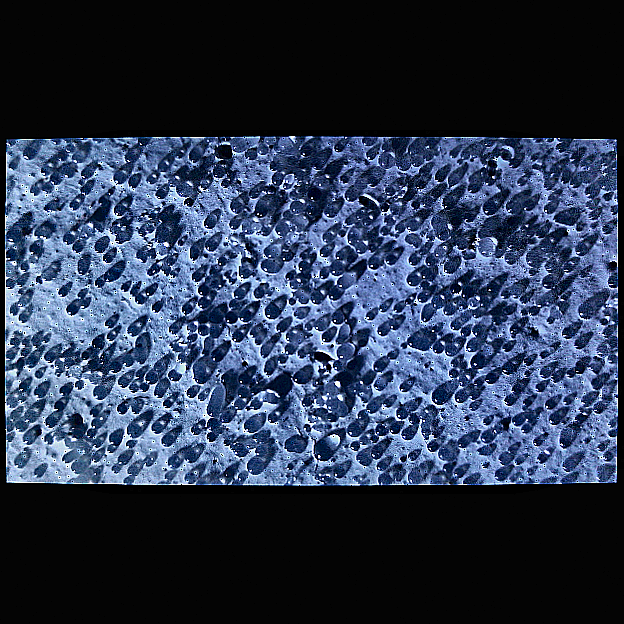GrassBeadSeg: (46, 174, 611, 453), (128, 153, 608, 478), (79, 186, 586, 462), (80, 162, 522, 463), (32, 189, 479, 477), (44, 211, 599, 437), (129, 137, 542, 415), (70, 154, 417, 481), (11, 179, 483, 416), (23, 158, 393, 451), (140, 137, 542, 396), (222, 150, 604, 414), (12, 219, 417, 468), (31, 262, 511, 464), (43, 233, 494, 444), (33, 189, 381, 459), (106, 138, 409, 441), (63, 233, 588, 406), (77, 142, 392, 427), (169, 227, 607, 430), (53, 215, 601, 377), (111, 205, 516, 424), (15, 208, 496, 392), (61, 239, 468, 456), (184, 190, 494, 461), (21, 166, 294, 470), (7, 201, 612, 337), (123, 152, 485, 379), (132, 289, 574, 473), (59, 167, 337, 456), (123, 153, 395, 448), (84, 252, 453, 465), (38, 167, 336, 422), (43, 256, 437, 445), (252, 216, 534, 475), (166, 178, 502, 392), (146, 201, 419, 459), (52, 143, 327, 393), (111, 172, 483, 356), (20, 204, 482, 347), (104, 324, 533, 473), (7, 240, 537, 360), (115, 213, 474, 388), (179, 304, 574, 463), (20, 150, 261, 410), (124, 148, 311, 477), (67, 201, 342, 422), (237, 205, 496, 433), (309, 158, 607, 356), (298, 145, 520, 410), (121, 288, 418, 484), (23, 148, 516, 264), (8, 220, 292, 421), (316, 270, 612, 462), (226, 149, 465, 383), (296, 161, 551, 379), (13, 244, 304, 431), (117, 265, 385, 467), (88, 149, 257, 463), (138, 229, 449, 392), (124, 326, 573, 438), (69, 252, 293, 474), (43, 303, 443, 426), (182, 198, 386, 435), (10, 177, 348, 315), (207, 196, 554, 327), (107, 362, 506, 475), (163, 296, 610, 395), (155, 163, 498, 292), (205, 322, 474, 484), (192, 200, 476, 352), (28, 184, 263, 367), (15, 316, 544, 393), (137, 246, 447, 377), (100, 254, 512, 352), (27, 244, 344, 370), (232, 228, 446, 410), (132, 182, 328, 378), (67, 205, 307, 358), (15, 217, 341, 323), (145, 207, 338, 375), (142, 284, 461, 385), (64, 305, 401, 400), (316, 223, 451, 460), (60, 235, 455, 315), (388, 204, 519, 438), (16, 299, 233, 434), (52, 240, 218, 411), (118, 273, 444, 360), (245, 347, 458, 475), (343, 278, 555, 405), (115, 183, 211, 462), (232, 340, 426, 476), (14, 158, 219, 286), (262, 262, 457, 392), (306, 189, 515, 310), (107, 254, 244, 434), (203, 355, 486, 442), (286, 182, 379, 444), (36, 400, 345, 478), (140, 223, 287, 383), (328, 233, 593, 319), (299, 371, 505, 481), (114, 309, 307, 415), (166, 265, 343, 379), (160, 399, 468, 463), (48, 137, 133, 366), (237, 314, 449, 404), (311, 217, 475, 332), (118, 324, 244, 465), (158, 309, 282, 447), (135, 136, 306, 234), (95, 310, 307, 388), (184, 348, 515, 397), (97, 245, 256, 345), (125, 274, 419, 328), (223, 313, 378, 413), (110, 397, 311, 474), (146, 285, 352, 360), (208, 342, 510, 392), (57, 312, 234, 394), (196, 204, 304, 336), (282, 331, 479, 400), (195, 344, 296, 475), (135, 270, 277, 363), (329, 335, 456, 437), (60, 389, 196, 483), (186, 150, 402, 208), (177, 371, 307, 466), (134, 190, 300, 263), (398, 335, 474, 484), (6, 337, 105, 441), (328, 312, 388, 472), (133, 423, 530, 447), (7, 339, 162, 398), (207, 269, 287, 377), (64, 393, 202, 453), (527, 262, 615, 356), (23, 371, 122, 453), (344, 222, 426, 319), (58, 226, 97, 428), (359, 136, 420, 265), (507, 407, 608, 482), (415, 166, 531, 231), (148, 303, 305, 349), (378, 324, 517, 375), (290, 145, 389, 215), (279, 203, 388, 262), (361, 137, 453, 203), (471, 153, 557, 221), (57, 249, 175, 298), (12, 414, 105, 475), (6, 137, 83, 210), (327, 262, 445, 309), (231, 424, 324, 480), (180, 150, 289, 195), (352, 238, 428, 302), (282, 423, 360, 483), (457, 426, 541, 481), (233, 137, 291, 216), (215, 257, 351, 290), (499, 258, 575, 315), (199, 373, 256, 448), (222, 219, 286, 285), (396, 139, 492, 181), (448, 306, 514, 367), (212, 140, 281, 197), (427, 415, 491, 476), (355, 201, 431, 252), (419, 380, 490, 434), (537, 260, 616, 307), (522, 355, 587, 409), (17, 259, 53, 356), (125, 324, 390, 337), (310, 234, 359, 304), (559, 169, 611, 234), (5, 373, 101, 408), (175, 321, 256, 361), (146, 176, 175, 276), (543, 193, 616, 232), (74, 337, 126, 389), (5, 229, 50, 289), (375, 143, 404, 233), (114, 222, 174, 265), (314, 376, 389, 409), (504, 199, 540, 266), (411, 200, 455, 254), (55, 150, 111, 191), (560, 411, 617, 450), (165, 445, 266, 467), (19, 337, 73, 377), (338, 219, 379, 269), (538, 351, 615, 377), (100, 212, 162, 244), (506, 203, 548, 250), (32, 230, 84, 267), (311, 363, 331, 457), (318, 320, 399, 343), (521, 395, 590, 421), (59, 421, 100, 464), (238, 267, 292, 299), (77, 239, 115, 282), (393, 406, 441, 440), (355, 402, 391, 444), (354, 438, 387, 483), (260, 226, 305, 259), (209, 272, 254, 305), (464, 373, 495, 420), (547, 142, 588, 177), (396, 427, 422, 482), (231, 288, 337, 301), (455, 136, 491, 174), (47, 213, 101, 238), (136, 214, 165, 258), (145, 150, 182, 183), (5, 162, 20, 243), (436, 449, 509, 465), (7, 371, 41, 402), (97, 191, 121, 233), (44, 355, 85, 379), (192, 372, 207, 435), (291, 438, 329, 460), (285, 252, 306, 291), (545, 413, 568, 447), (466, 297, 498, 319), (266, 290, 308, 305), (278, 175, 309, 195), (197, 297, 244, 310), (532, 251, 558, 273), (307, 391, 324, 422), (378, 253, 418, 265), (188, 252, 202, 283), (376, 472, 400, 485), (223, 439, 254, 449), (296, 293, 321, 304), (283, 439, 299, 452), (288, 201, 303, 214), (315, 403, 320, 405), (352, 387, 355, 390)
